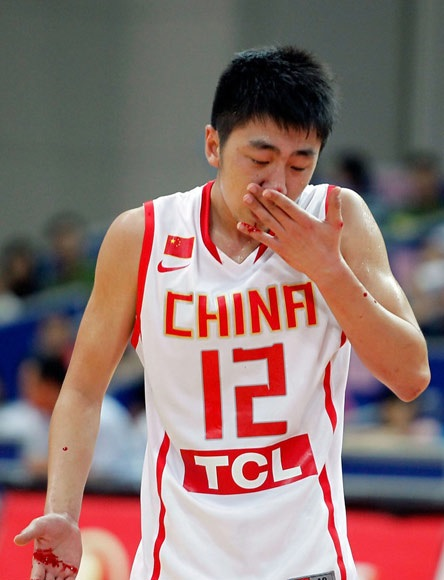face: (220, 107, 318, 235)
